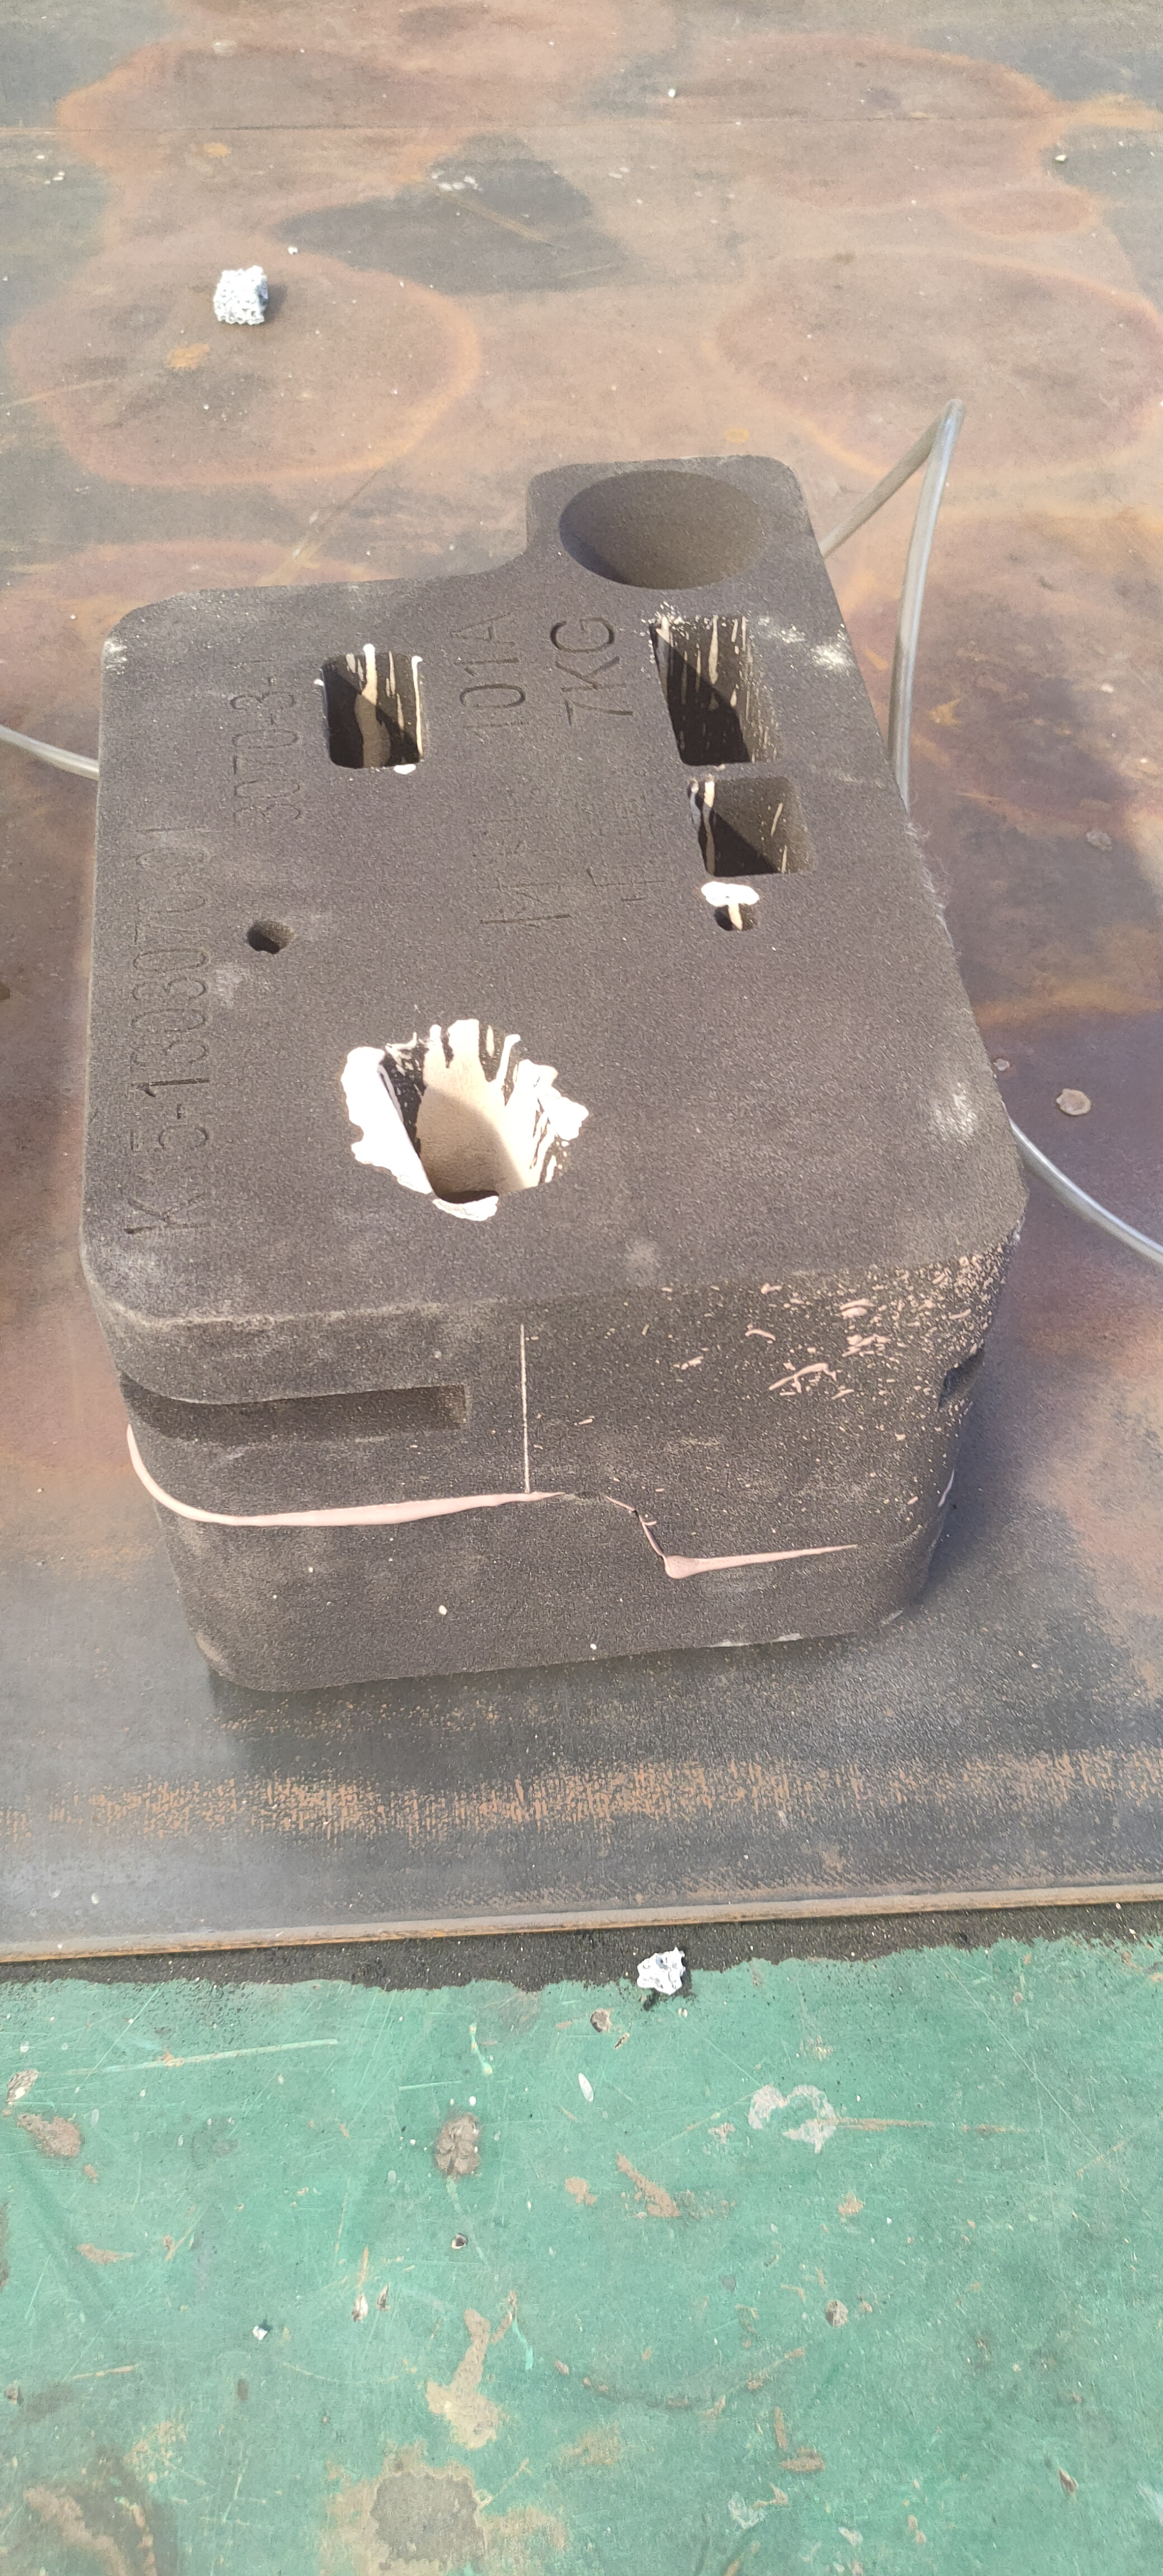pouring hole: (559, 470, 767, 590)
